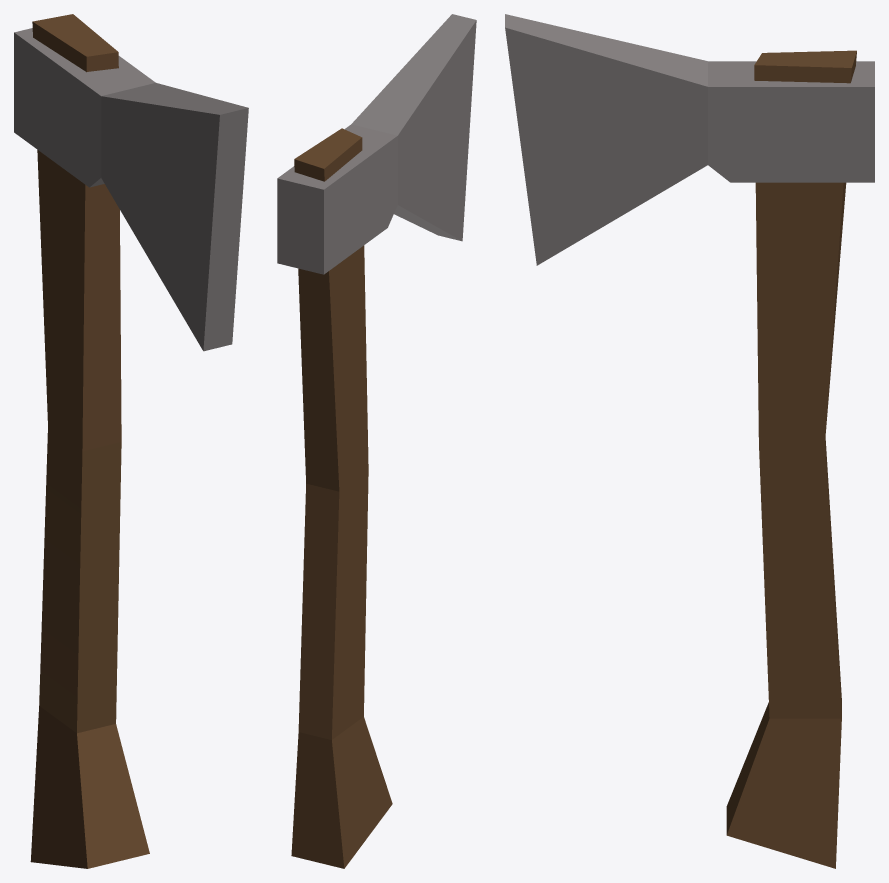
Rendered from tools_axe.fbx.
The picture shows the model from 3 angles, left to right: view 1: azimuth 30°, elevation 25°; view 2: azimuth 150°, elevation 25°; view 3: azimuth 270°, elevation 25°; orthographic projection. The views are drawn at different scales.
Visible parts, largest first — view 1: tools_axe; view 2: tools_axe; view 3: tools_axe.
Boxes of the visible parts, x1,y1,x2,y2 form: tools_axe: (14, 14, 248, 868); tools_axe: (277, 14, 476, 868); tools_axe: (505, 14, 874, 868).
Size of the model in its own units: 15 by 200 by 80.44.
